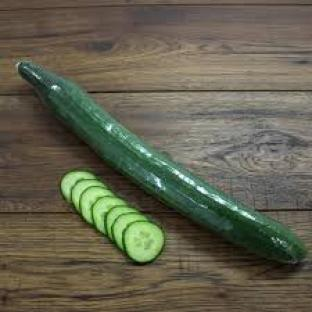Cucumber: (17, 63, 306, 263), (124, 221, 165, 263), (92, 197, 126, 234), (80, 186, 113, 224), (113, 213, 146, 250), (71, 179, 106, 212), (104, 206, 137, 241), (60, 171, 95, 202)
